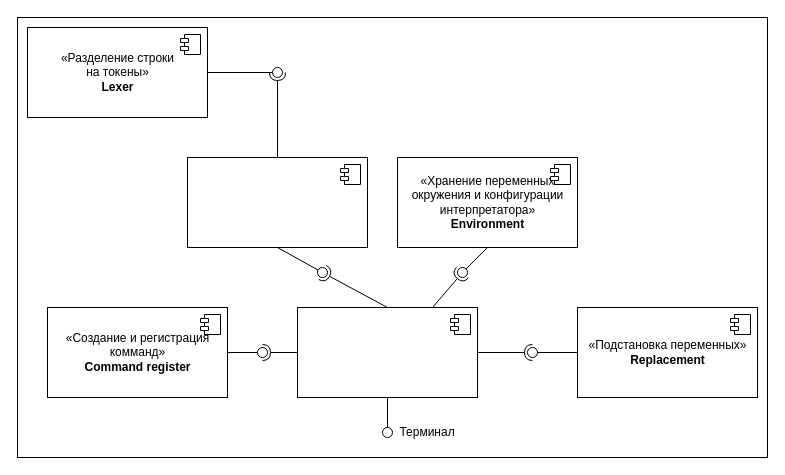
This 785x475 diagram has some shape labels left out. The centre of each missing label's shape, as x and y in pixels:
"«Агрегирация всех компонент, выполнение командной строки» Interpreter" goes at point (387, 352).
"«Преобразование командной строки в промежуточное представление» Parser" goes at point (277, 202).
